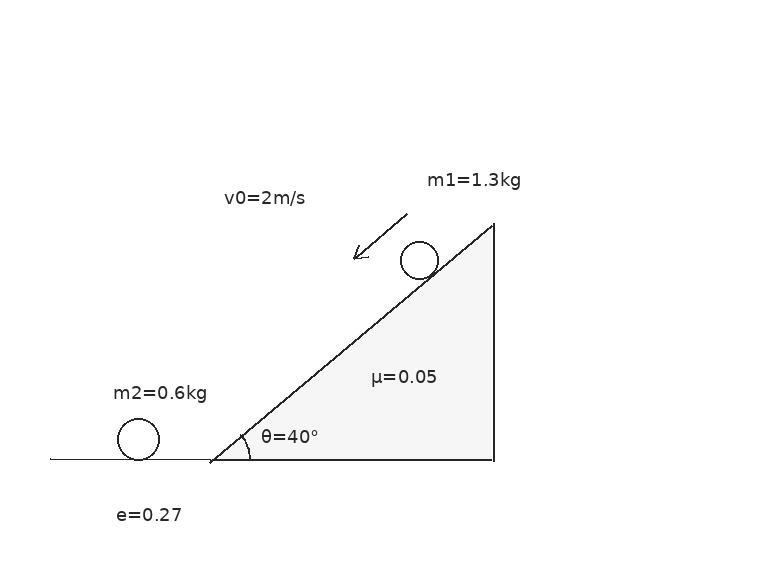ball: (115, 416, 161, 462), (398, 239, 440, 281)
ramp: (208, 221, 494, 462)
